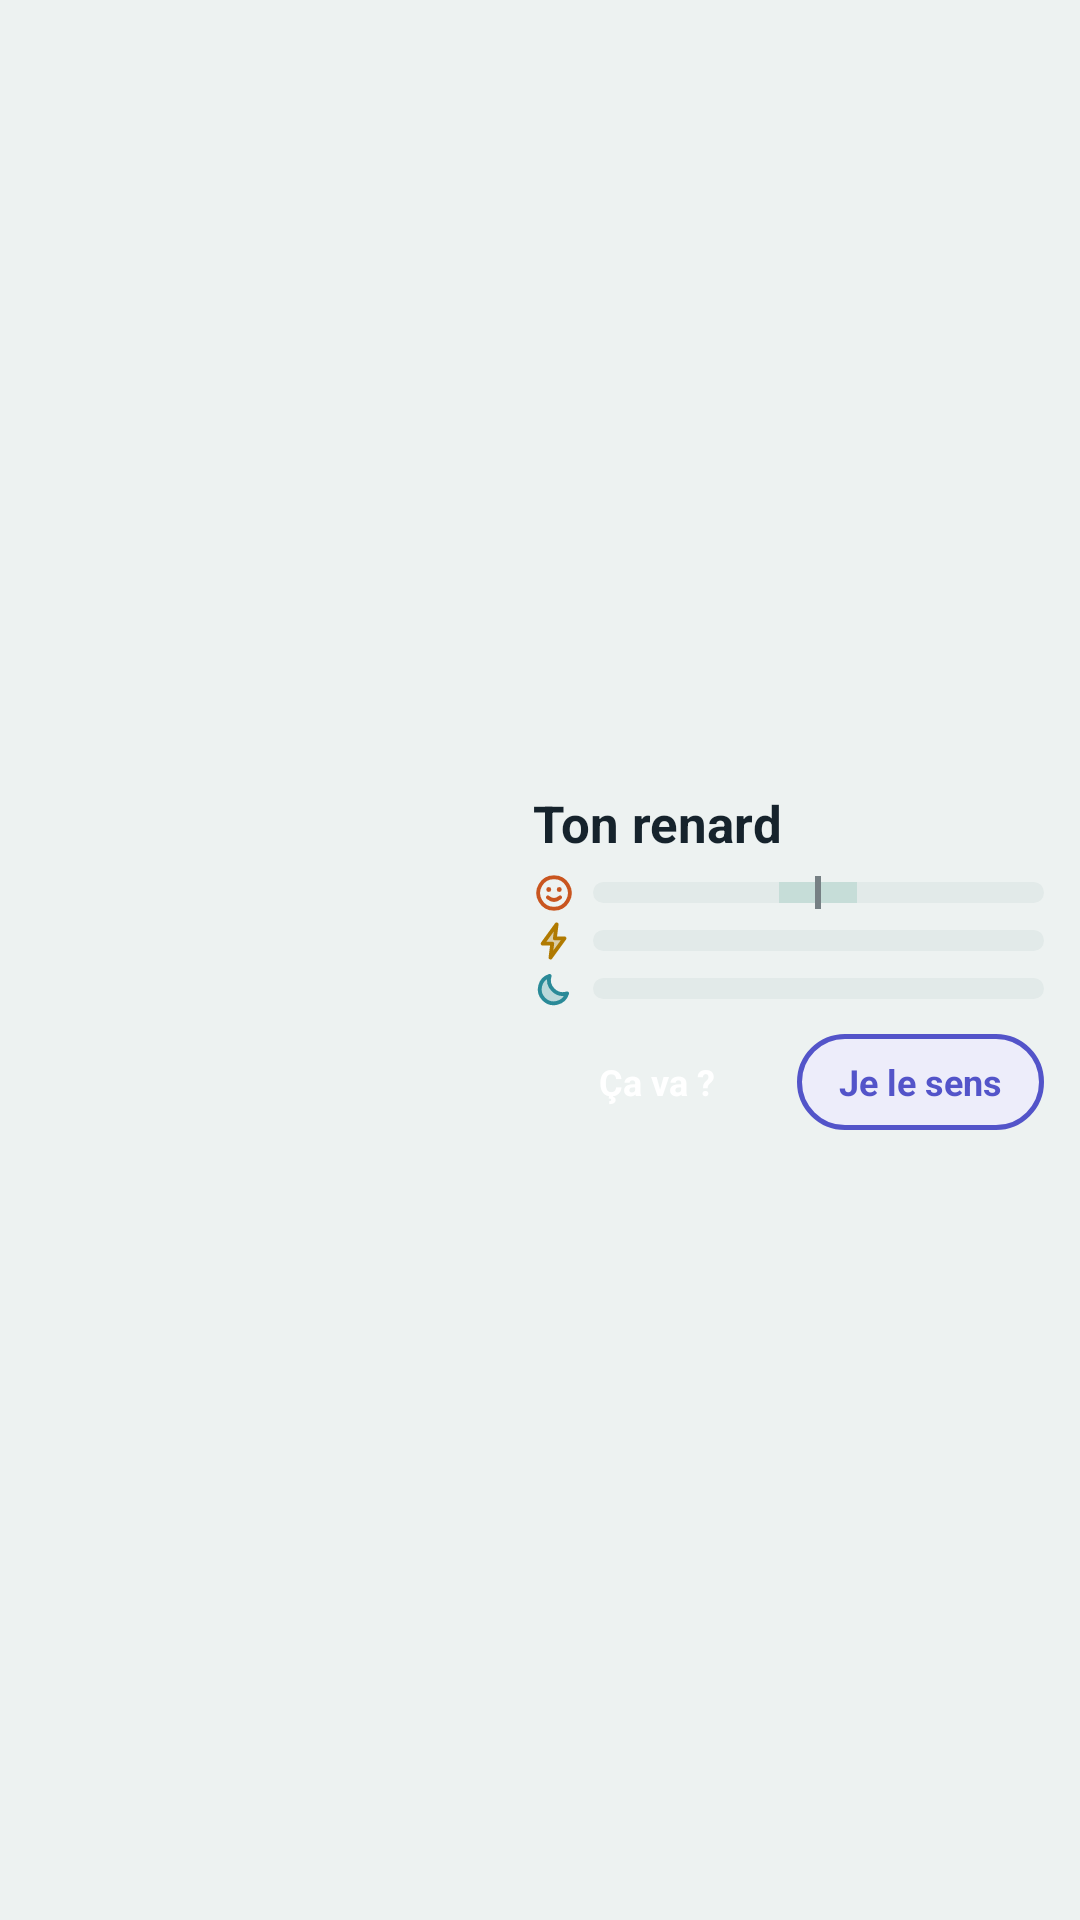

Icons on this 1080w x 1920h Android screen, each with the point to tap as [x,y]:
energy: [553,941]
mood: [554,893]
sleep: [553,990]
